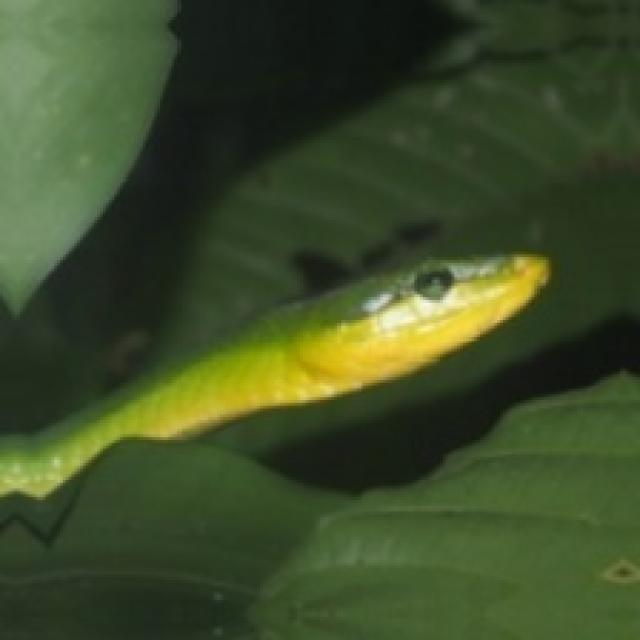red-tailed green ratsnake: (0, 254, 549, 494)
